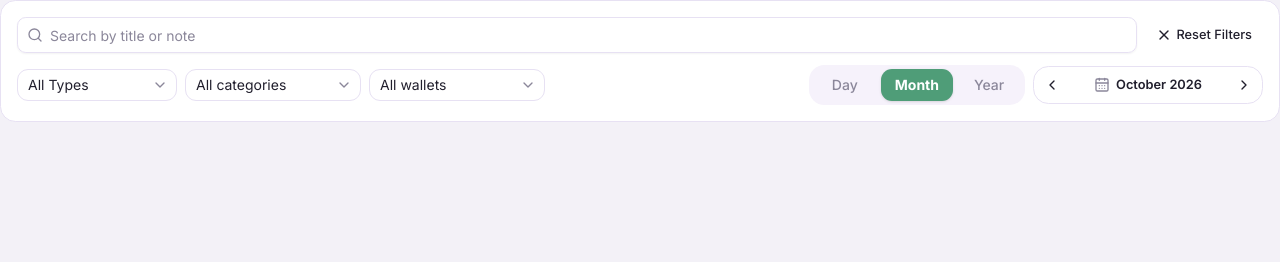
Test: TransactionFilterBar — type and category stay in sync (#163) › lists every category grouped by type when Type is All
The image size is (1280, 262).
Click the dropdown labelled "All categories ▼".
click(273, 85)  # box [185, 69, 361, 101]
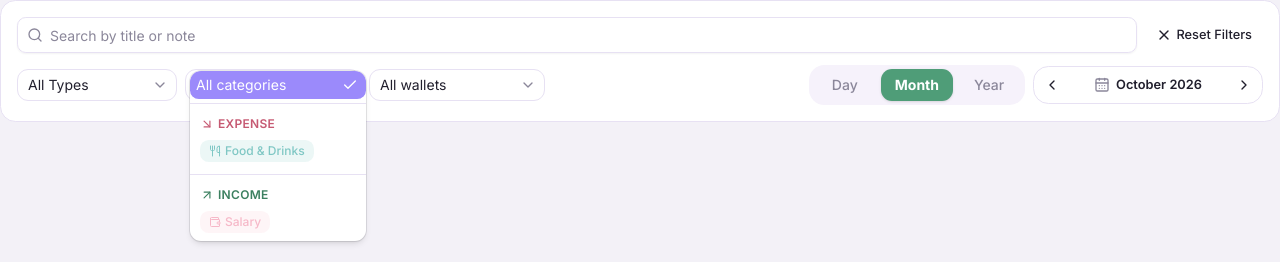
Check: the element "Expense" shows "Food & Drinks", box [225, 143, 305, 158]
Check: the element "Income" shows "Salary", box [225, 214, 261, 229]
